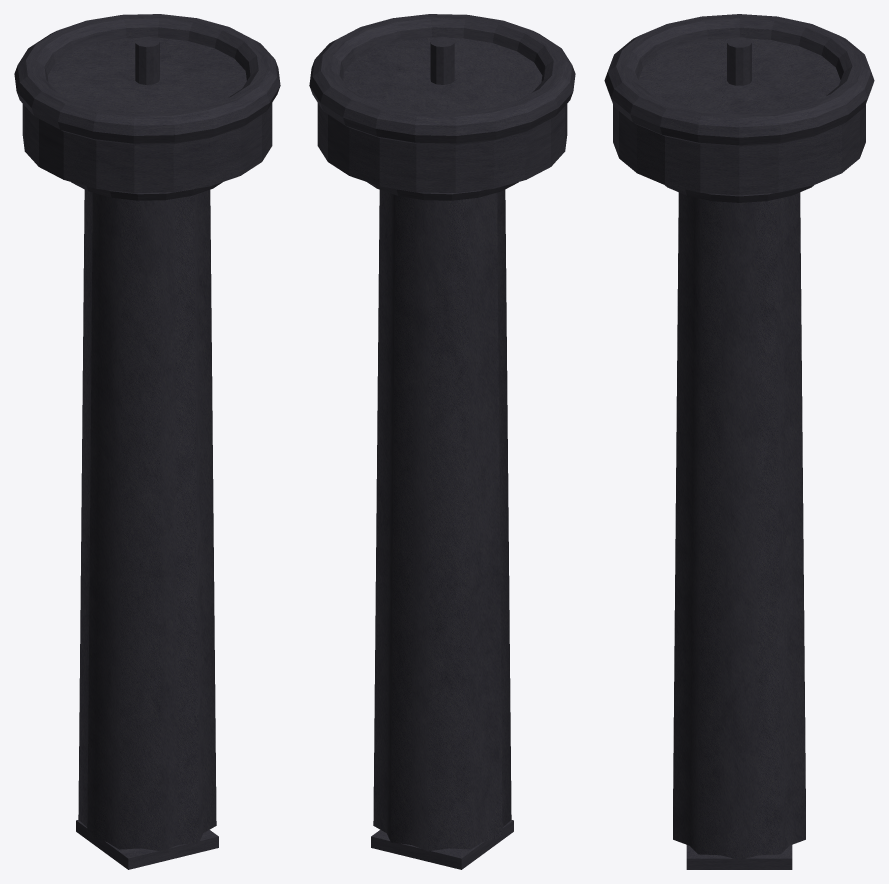
File: cp_drinking_fountain.glb
3 renders of one model, left to right at view 1: azimuth 30°, elevation 25°; view 2: azimuth 150°, elevation 25°; view 3: azimuth 270°, elevation 25°, orthographic.
Visible parts, largest first — view 1: DrinkingFountain; view 2: DrinkingFountain; view 3: DrinkingFountain.
Boxes of the visible parts, left/top/right/bottom form: DrinkingFountain: left=14, top=14, right=280, bottom=869; DrinkingFountain: left=309, top=14, right=575, bottom=869; DrinkingFountain: left=604, top=14, right=874, bottom=869.
Size of the model in its own units: 0.32 by 1.05 by 0.32.
1 material, 1 textured.
